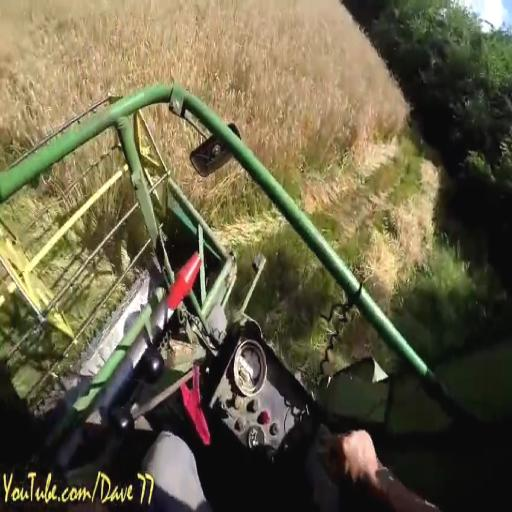bugday: (0, 0, 440, 308), (146, 107, 335, 348), (0, 134, 115, 251)
